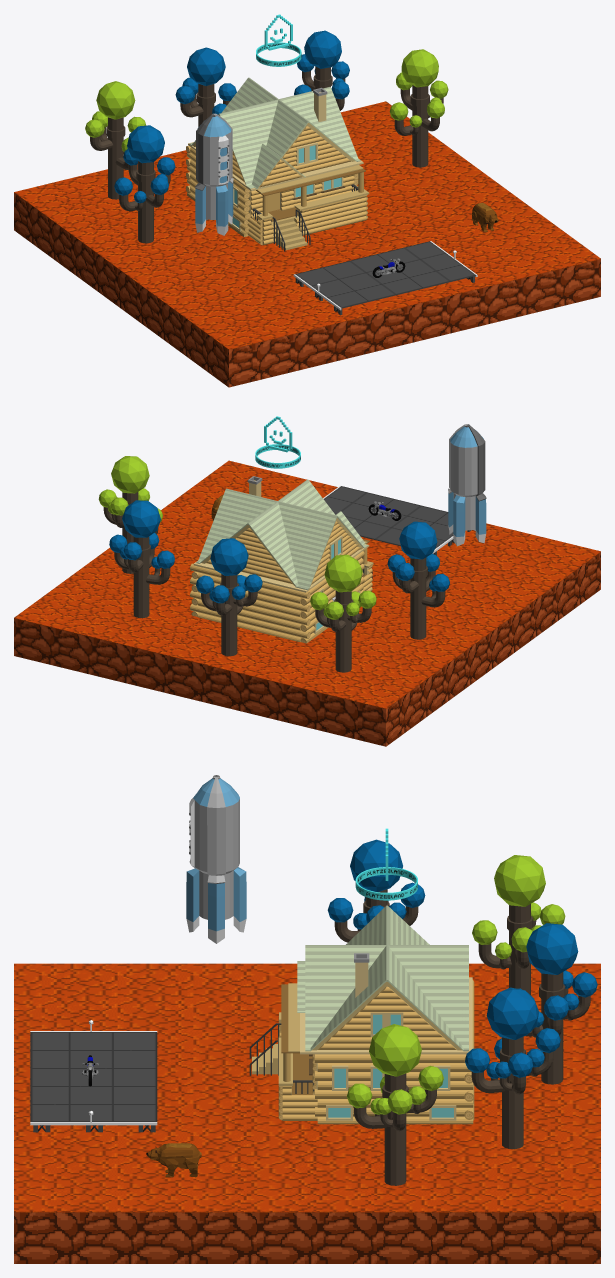
3 renders of one model, top to bottom at view 1: azimuth 30°, elevation 25°; view 2: azimuth 150°, elevation 25°; view 3: azimuth 270°, elevation 25°, orthographic. The views are drawn at different scales.
Visible parts, largest first — view 1: Cube.001, Cube.1516, OBJRANDOM_ROCKETSHIP, TYPE_PREMIUM, ANIMAL_OSO; view 2: Cube.001, Cube.1516, OBJRANDOM_ROCKETSHIP, TYPE_PREMIUM; view 3: Cube.001, Cube.1516, OBJRANDOM_ROCKETSHIP, ANIMAL_OSO, TYPE_PREMIUM.
Part boxes in pixels (x1,y1,x2,y2): Cube.001: (14,30,600,387); Cube.1516: (186,77,369,251); OBJRANDOM_ROCKETSHIP: (195,113,233,235); TYPE_PREMIUM: (256,14,301,66); ANIMAL_OSO: (472,202,498,232); Cube.001: (14,456,600,746); Cube.1516: (190,476,373,643); OBJRANDOM_ROCKETSHIP: (448,424,486,546); TYPE_PREMIUM: (255,416,300,468); Cube.001: (14,839,600,1263); Cube.1516: (249,905,474,1124); OBJRANDOM_ROCKETSHIP: (186,775,246,943); ANIMAL_OSO: (146,1143,201,1177); TYPE_PREMIUM: (355,828,417,900).
Size of the model in its own units: 4000 by 2418 by 4000.
Materials: 37 (6 with a texture image).
